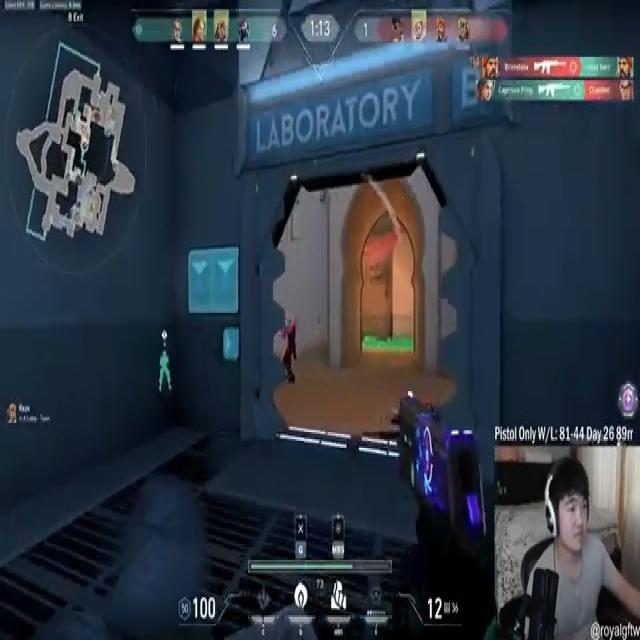ally behind wall: (158, 350, 172, 394)
enemy: (281, 311, 298, 386)
